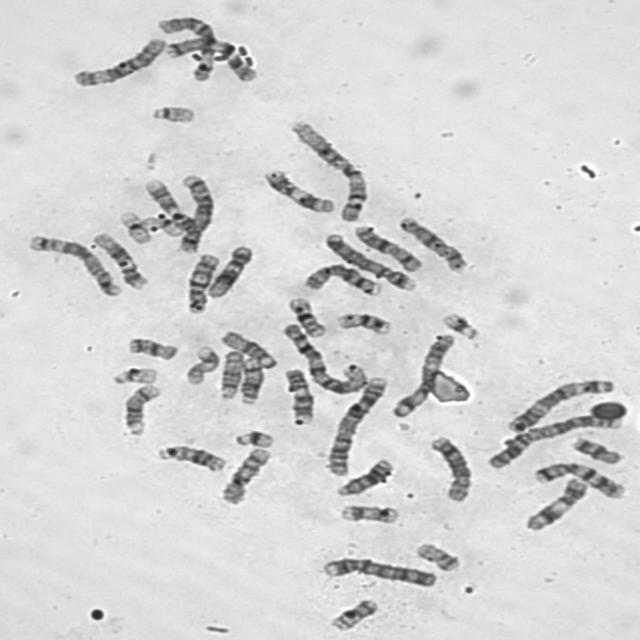A1: (285, 117, 370, 223), (278, 320, 370, 396)
A2: (482, 412, 624, 471), (322, 373, 390, 477)
A3: (503, 376, 618, 434), (387, 330, 458, 419)
B4: (319, 230, 418, 292), (316, 554, 439, 589)
B5: (22, 231, 123, 298), (172, 170, 215, 254)
C10: (215, 444, 274, 506), (181, 250, 221, 315)
C11: (520, 474, 589, 534), (258, 166, 338, 214)
C12: (88, 228, 150, 291), (203, 242, 255, 300)
C6: (145, 12, 219, 90), (66, 34, 168, 88)
C7: (159, 34, 259, 84), (527, 458, 628, 501)
C8: (424, 432, 474, 504), (299, 260, 384, 297)
C9: (139, 175, 190, 238), (279, 366, 317, 424)
D13: (330, 455, 396, 497), (152, 442, 228, 474)
D14: (116, 381, 162, 437), (234, 356, 265, 406)
D15: (214, 327, 278, 370), (214, 347, 246, 401)
E16: (283, 294, 328, 338), (332, 309, 394, 336)
E17: (179, 342, 220, 387), (336, 501, 400, 526)
E18: (567, 434, 624, 466), (122, 334, 180, 362)
F19: (114, 207, 154, 245), (136, 212, 186, 237)
F20: (324, 596, 381, 632), (410, 539, 462, 573)
G21: (437, 309, 482, 341), (230, 427, 276, 449)
G22: (145, 101, 197, 125), (106, 363, 159, 386)
X: (394, 212, 470, 274), (349, 221, 424, 273)
